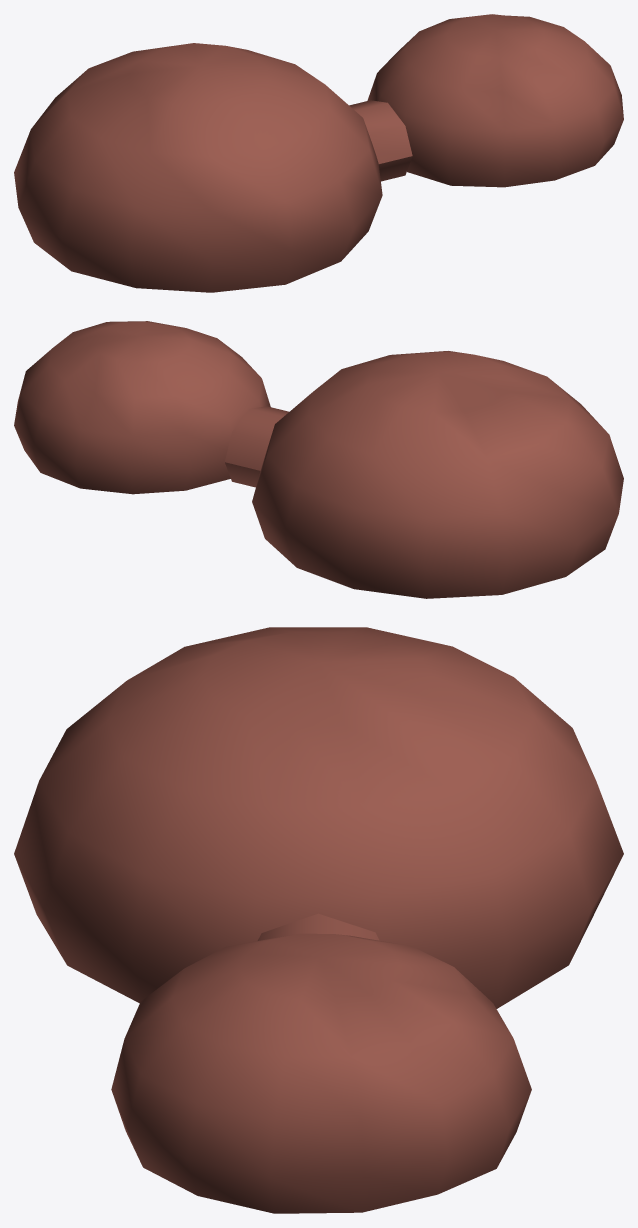
Rendered from driftback_bream_liver.glb.
3 renders of one model, top to bottom at view 1: azimuth 30°, elevation 25°; view 2: azimuth 150°, elevation 25°; view 3: azimuth 270°, elevation 25°, orthographic. The views are drawn at different scales.
Visible parts, largest first — view 1: driftback_bream_liver; view 2: driftback_bream_liver; view 3: driftback_bream_liver.
Boxes of the visible parts, bbox=[...] form: driftback_bream_liver: bbox=[14, 14, 623, 292]; driftback_bream_liver: bbox=[14, 321, 623, 598]; driftback_bream_liver: bbox=[14, 627, 623, 1213].
Size of the model in its own units: 0.035 by 0.01 by 0.02.
